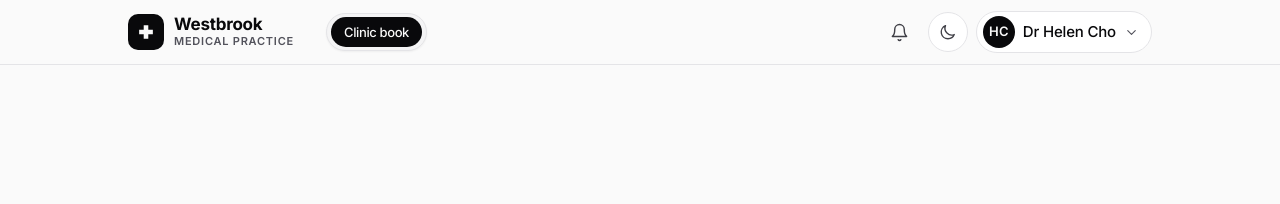
SiteHeader › staff get the clinic book, with their role and room
Click the button with aria-label "Dr Helen Cho, account".
click(1064, 32)  # box [976,11,1152,53]
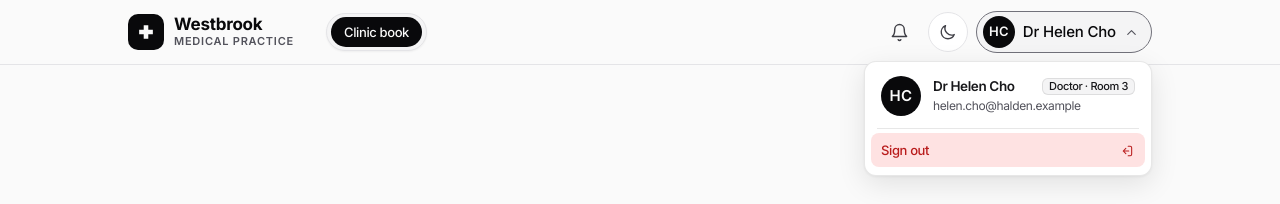
Check: the text "Doctor · Room 3" is shown, box [1042,78,1135,95]
